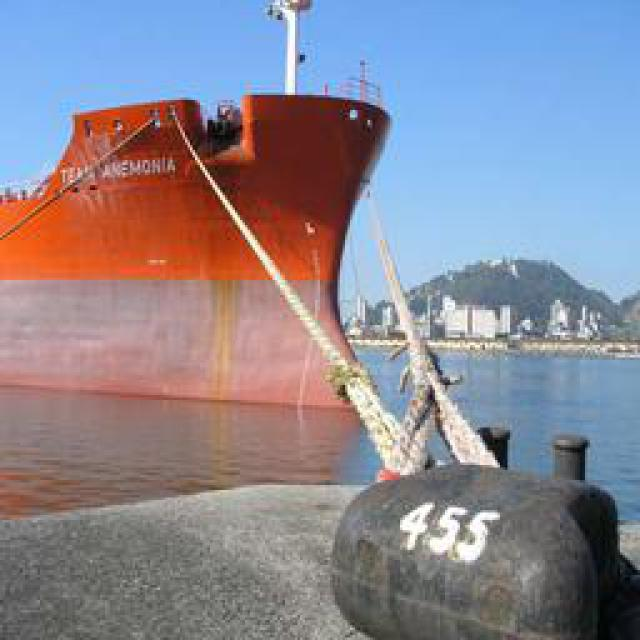Ship: (1, 1, 406, 420)
